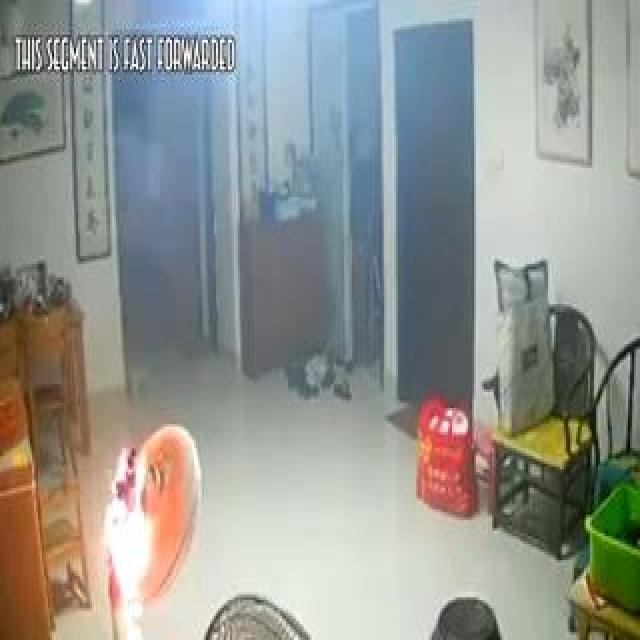Fire: (97, 380, 207, 623)
